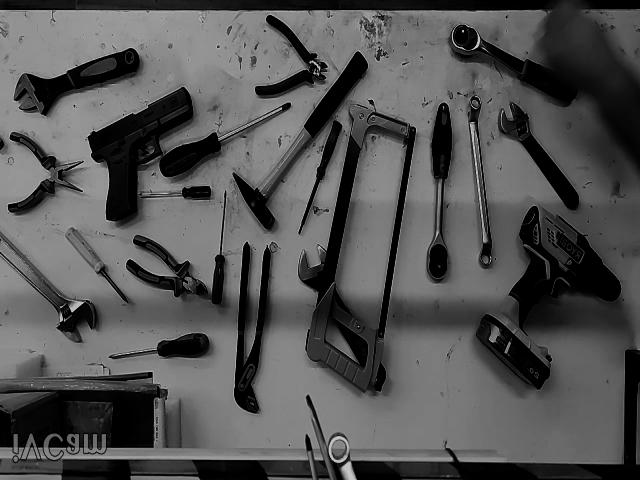Adjustable spanner: (299, 246, 386, 388), (0, 234, 96, 343), (500, 102, 580, 210), (14, 48, 139, 116)
Backsaw: (306, 103, 417, 394)
Cutting pliers: (255, 14, 328, 95), (125, 235, 208, 298)
Drill: (476, 206, 621, 390)
Gas wrench: (234, 243, 271, 413)
Gun: (88, 88, 192, 222)
Hammer: (234, 52, 368, 228)
Hand: (544, 2, 640, 163)
Needle-nose pliers: (6, 132, 84, 213)
Ratchet: (451, 24, 579, 100), (428, 103, 451, 282)
Screwdriver: (159, 101, 291, 177), (299, 120, 344, 235), (64, 228, 128, 303), (108, 334, 209, 359), (211, 189, 226, 305), (139, 187, 211, 200)
Wrench: (468, 95, 493, 269), (328, 433, 357, 480)
